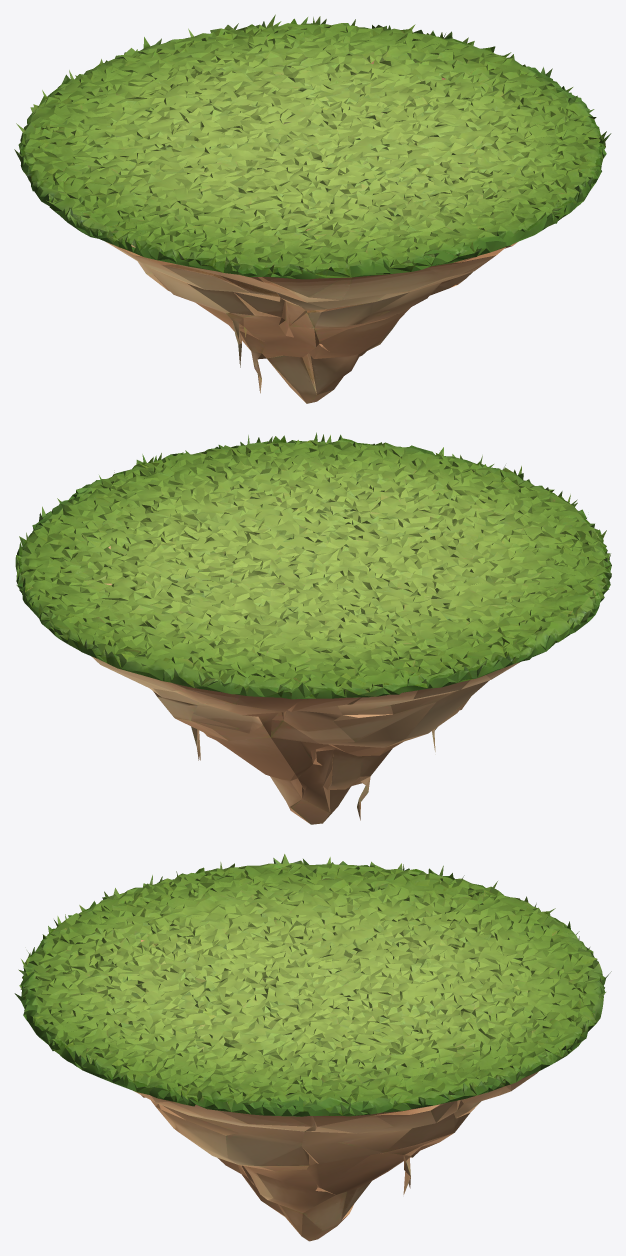
Rendered from island-base.glb.
3 views of the same model, one above another, from view 1: azimuth 30°, elevation 25°; view 2: azimuth 150°, elevation 25°; view 3: azimuth 270°, elevation 25° (orthographic).
Size of the model in its own units: 1.9 by 0.93 by 1.91.
1 material, 1 textured.
